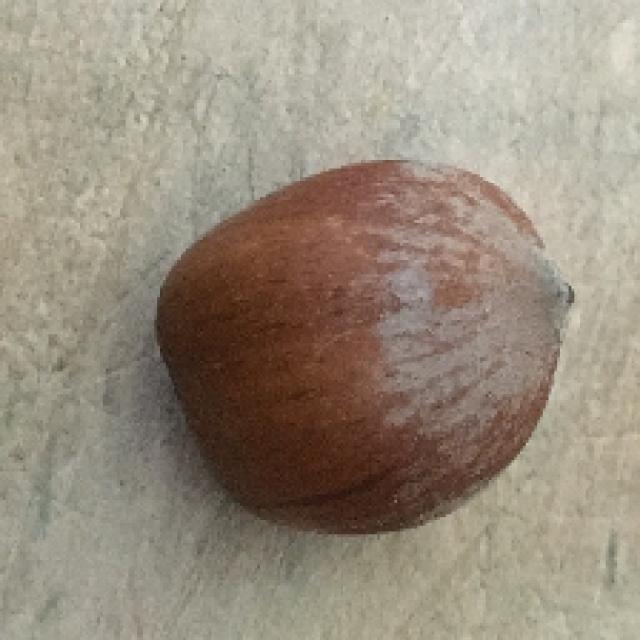qualityHazelnut: (154, 161, 571, 538)
